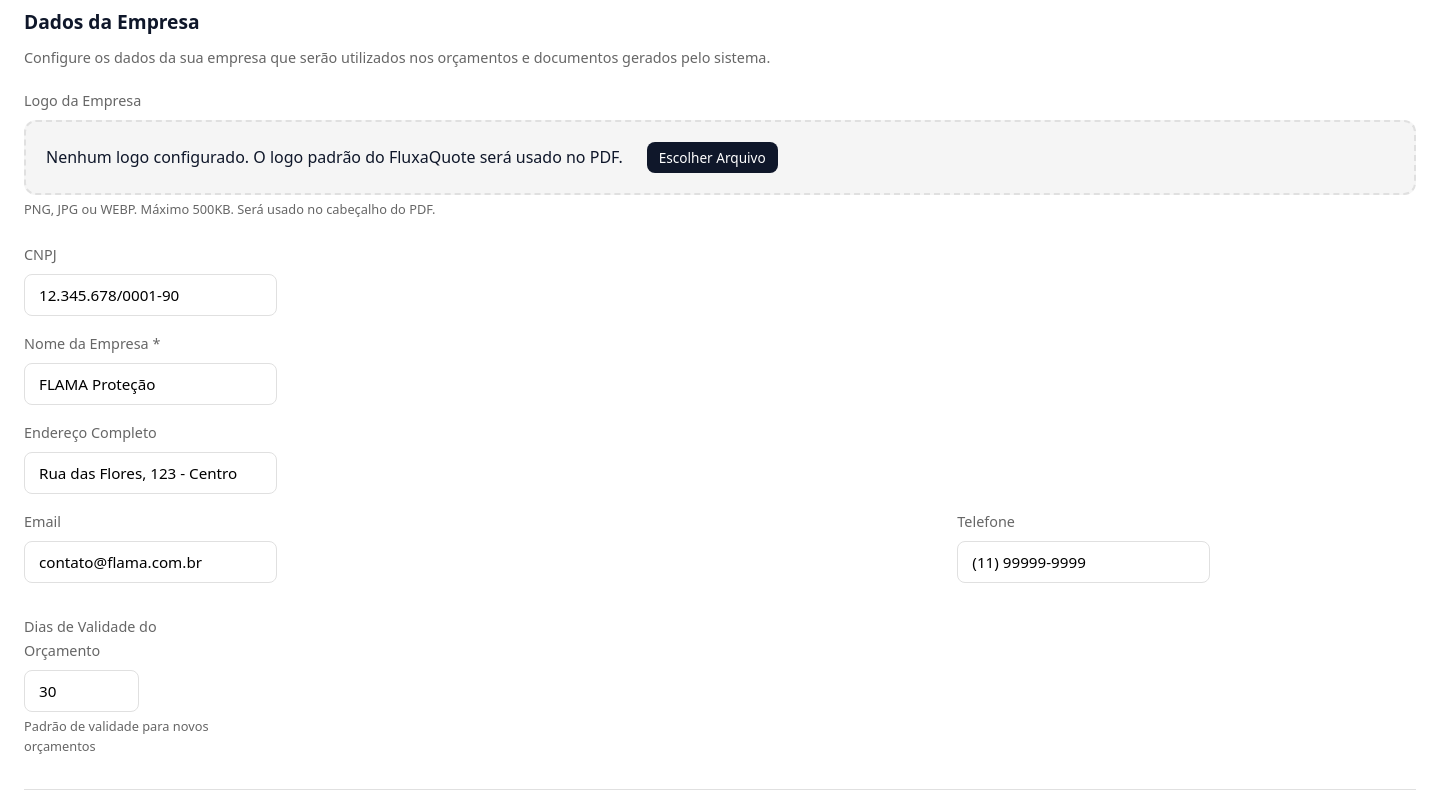
EmpresaTab › Cancelar alterações › deve restaurar valores originais ao cancelar
The image size is (1440, 793).
Replace the text in the field showing "FLAMA Proteção" below "Nome da Empresa *" with "Nome Alterado" at (150, 384), box [24,363,277,405]
(page scrolled)
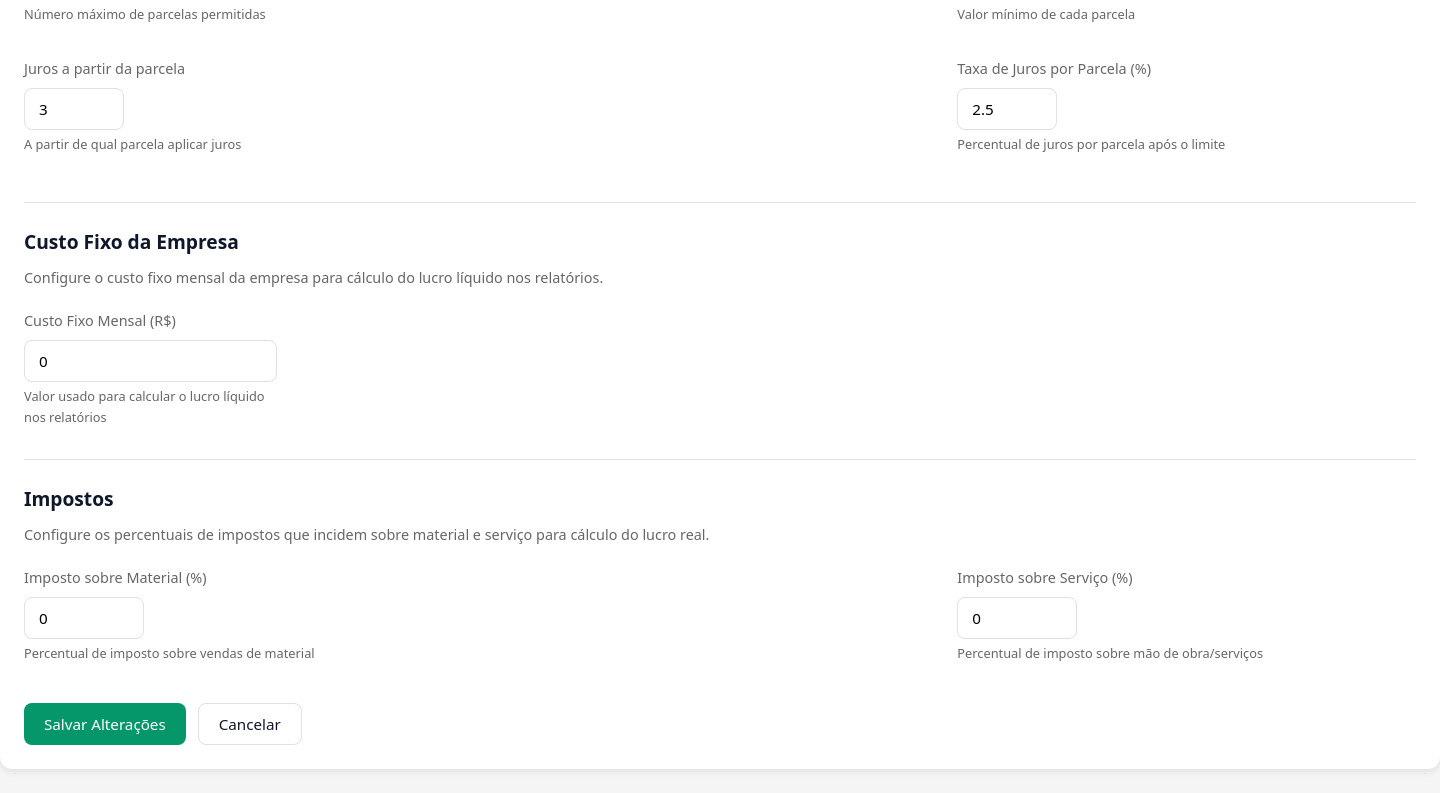
Click the button "Cancelar" at (250, 724), box [198,703,302,745]
(page scrolled)
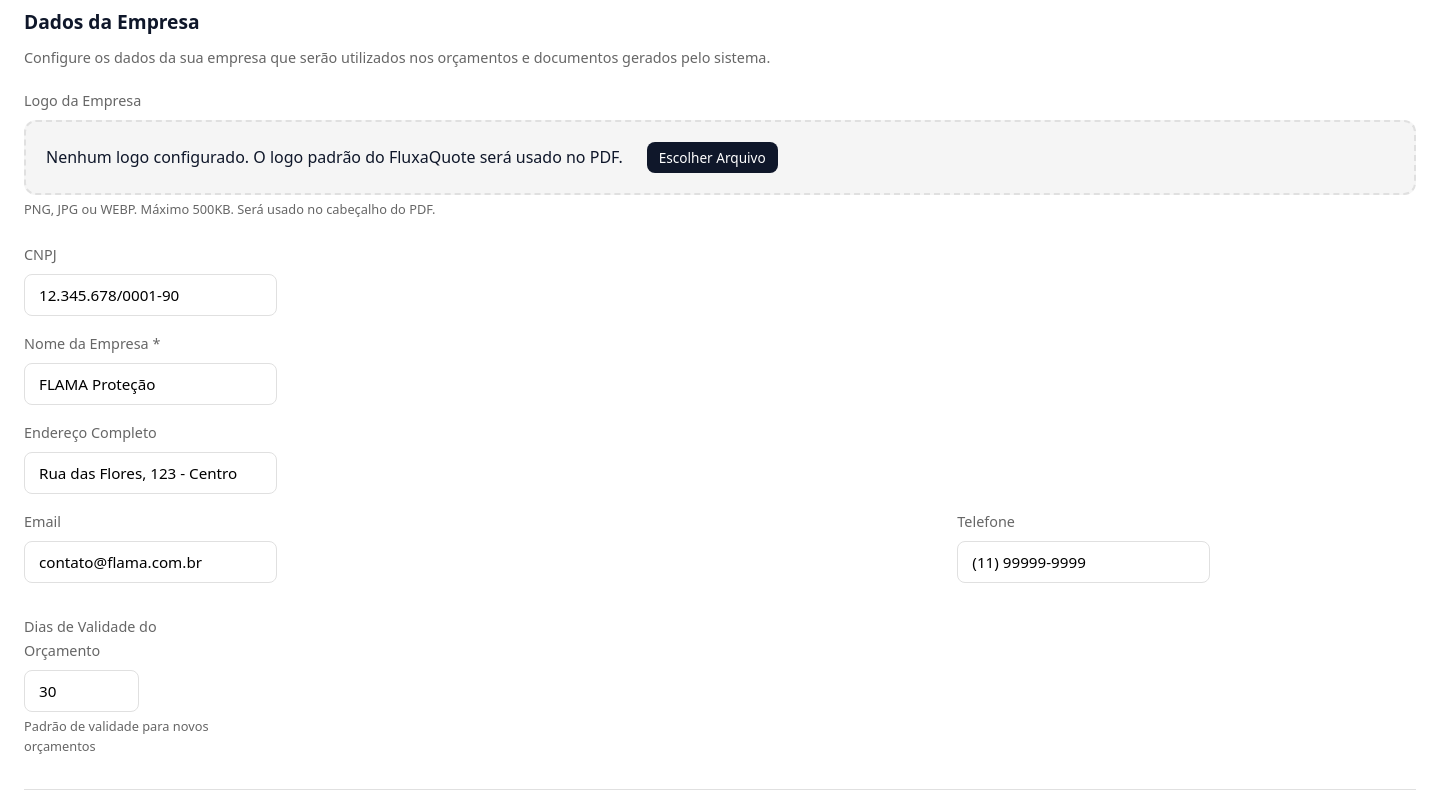
Now the field showing "FLAMA Proteção" below "Nome da Empresa *" is shown, box [24,363,277,405]
